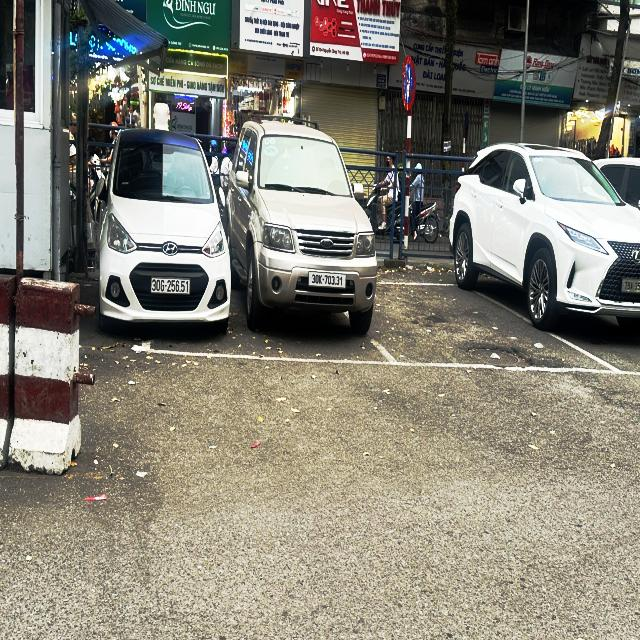license_plate: (151, 277, 192, 296), (309, 272, 348, 291)
